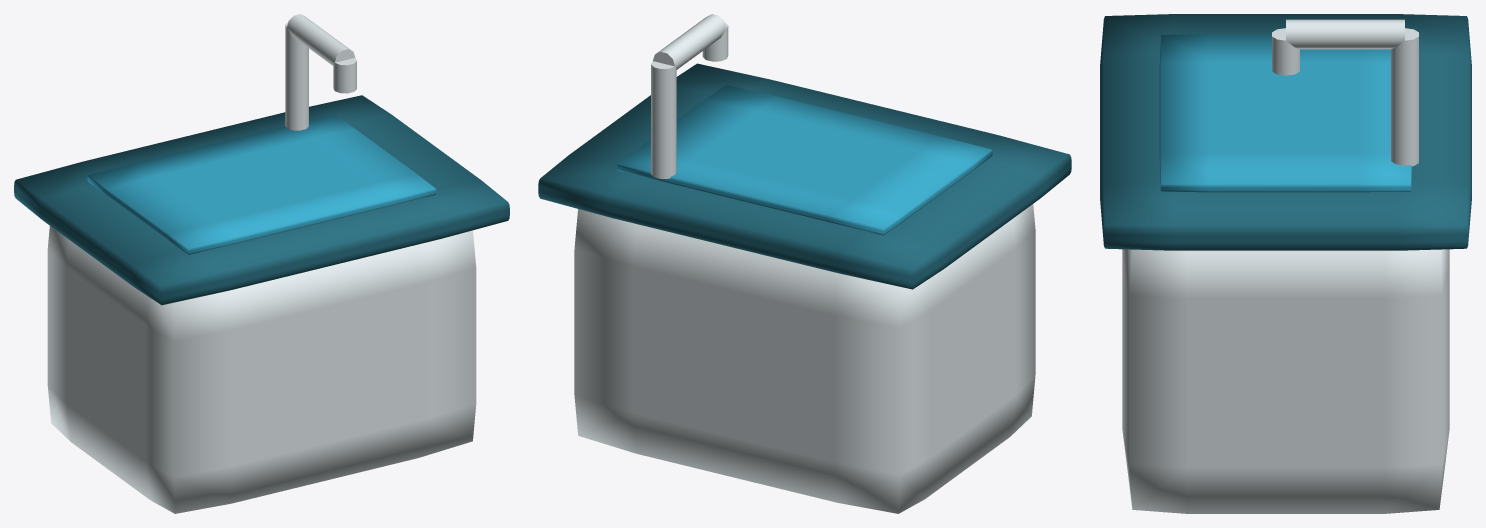
The model's file is laboratorio-lavado.glb.
The picture shows the model from 3 angles, left to right: view 1: azimuth 30°, elevation 25°; view 2: azimuth 150°, elevation 25°; view 3: azimuth 270°, elevation 25°; orthographic projection. The views are drawn at different scales.
Parts seen in each view (by area): view 1: Blanco, Petroleo, Agua; view 2: Blanco, Petroleo, Agua; view 3: Blanco, Petroleo, Agua.
Boxes of the visible parts, x1,y1,x2,y2 form: Blanco: (47,14,476,513); Petroleo: (14,95,509,305); Agua: (87,115,436,254); Blanco: (574,14,1035,513); Petroleo: (538,63,1071,289); Agua: (617,84,992,235); Blanco: (1122,19,1449,513); Petroleo: (1100,14,1471,250); Agua: (1159,34,1411,192).
Size of the model in its own units: 1.7 by 1.7 by 1.25.
